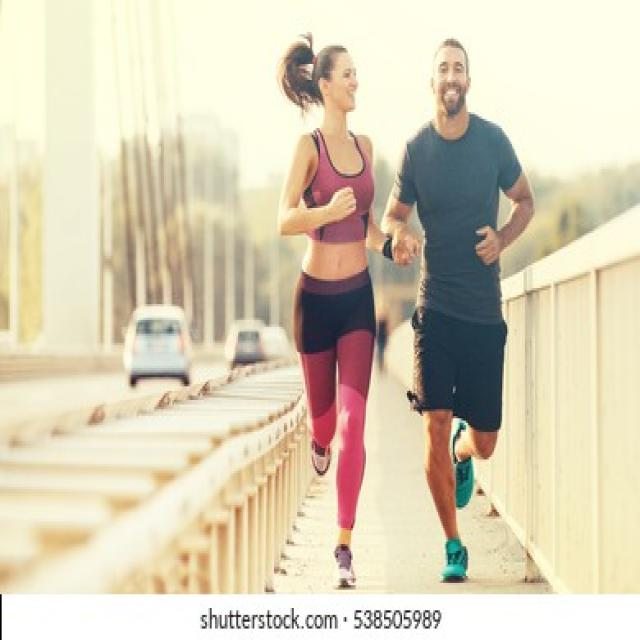running: (384, 39, 536, 583), (277, 39, 388, 594)
